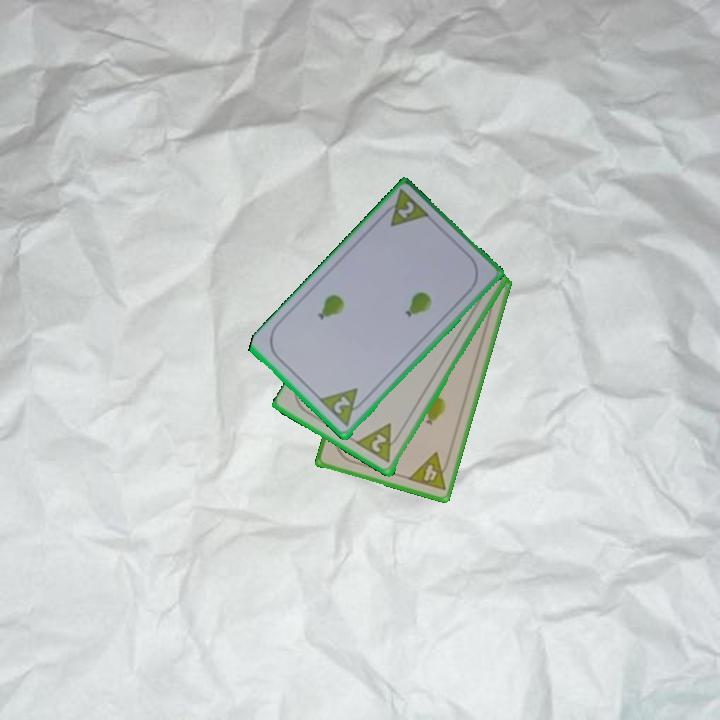2p: (377, 187, 433, 230), (354, 420, 405, 466), (330, 393, 354, 417)
4p: (404, 449, 453, 494)
